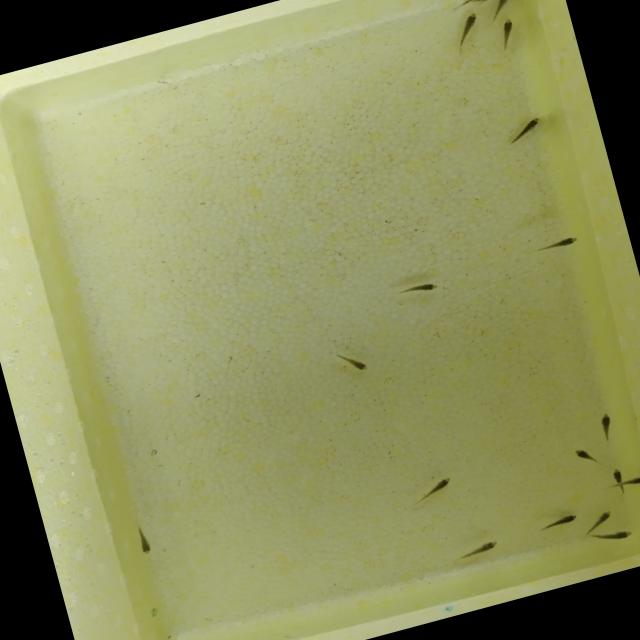fingerling: (399, 470, 462, 510), (326, 339, 372, 381), (498, 112, 550, 149), (446, 8, 488, 51), (126, 514, 162, 562), (388, 274, 442, 304), (528, 232, 582, 258), (590, 524, 640, 548), (457, 536, 504, 561), (491, 14, 521, 52), (536, 510, 581, 532), (592, 410, 619, 446), (571, 442, 601, 472), (588, 508, 616, 530), (608, 465, 625, 480), (627, 472, 640, 487), (494, 0, 515, 9)
